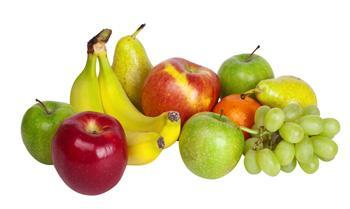apple: (49, 110, 127, 195), (140, 56, 221, 124), (179, 113, 244, 180), (20, 99, 75, 165), (217, 50, 274, 97)
